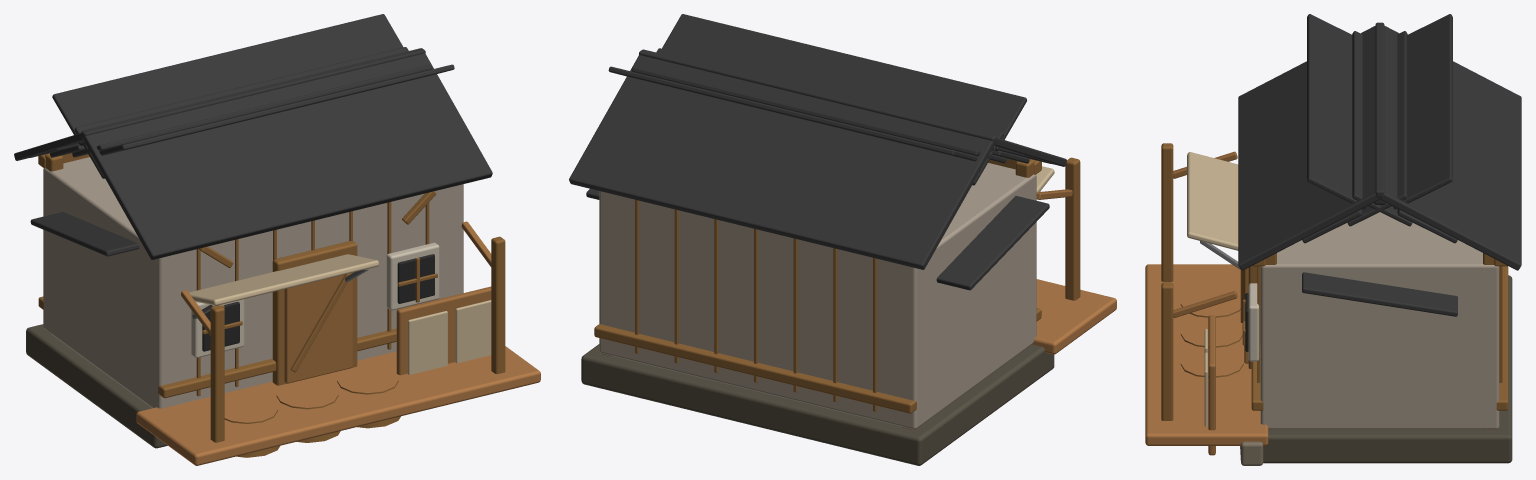
The model's file is tannery.glb.
3 views of the same model, side by side, from view 1: azimuth 30°, elevation 25°; view 2: azimuth 150°, elevation 25°; view 3: azimuth 270°, elevation 25° (orthographic). The views are drawn at different scales.
Parts seen in each view (by area): view 1: tannery-farm-roof-slate, tannery-farm-plaster, tannery-farm-wood-light, tannery-farm-wood-dark, tannery-farm-wood, tannery-farm-cloth, tannery-farm-stone-dark, tannery-farm-trim, tannery-farm-window; view 2: tannery-farm-roof-slate, tannery-farm-plaster, tannery-farm-stone-dark, tannery-farm-wood-dark, tannery-farm-wood-light; view 3: tannery-farm-roof-slate, tannery-farm-plaster, tannery-farm-wood-light, tannery-farm-stone-dark, tannery-farm-wood-dark, tannery-farm-cloth, tannery-farm-wood, tannery-farm-trim, tannery-farm-stone.
Part boxes in pixels (left/top/right/bottom): tannery-farm-roof-slate: left=14, top=14, right=492, bottom=259; tannery-farm-plaster: left=43, top=157, right=463, bottom=408; tannery-farm-wood-light: left=136, top=346, right=540, bottom=465; tannery-farm-wood-dark: left=38, top=153, right=505, bottom=457; tannery-farm-wood: left=181, top=221, right=491, bottom=383; tannery-farm-cloth: left=189, top=254, right=491, bottom=374; tannery-farm-stone-dark: left=26, top=324, right=167, bottom=448; tannery-farm-trim: left=191, top=242, right=439, bottom=358; tannery-farm-window: left=202, top=254, right=434, bottom=351; tannery-farm-roof-slate: left=569, top=14, right=1066, bottom=290; tannery-farm-plaster: left=599, top=163, right=1036, bottom=429; tannery-farm-stone-dark: left=581, top=344, right=1054, bottom=465; tannery-farm-wood-dark: left=594, top=157, right=1080, bottom=429; tannery-farm-wood-light: left=1032, top=279, right=1116, bottom=354; tannery-farm-roof-slate: left=1238, top=14, right=1521, bottom=316; tannery-farm-plaster: left=1260, top=212, right=1499, bottom=429; tannery-farm-wood-light: left=1145, top=264, right=1268, bottom=445; tannery-farm-stone-dark: left=1263, top=275, right=1512, bottom=463; tannery-farm-wood-dark: left=1161, top=143, right=1508, bottom=429; tannery-farm-cloth: left=1187, top=152, right=1238, bottom=426; tannery-farm-wood: left=1173, top=151, right=1248, bottom=455; tannery-farm-trim: left=1248, top=283, right=1259, bottom=361; tannery-farm-stone: left=1240, top=441, right=1263, bottom=465.
Size of the model in its own units: 5.82 by 4.26 by 5.04.
